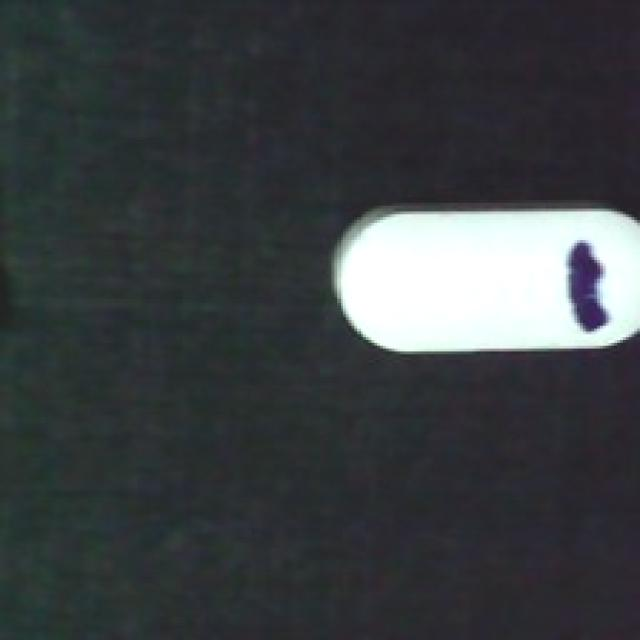defected: (329, 197, 640, 374)
